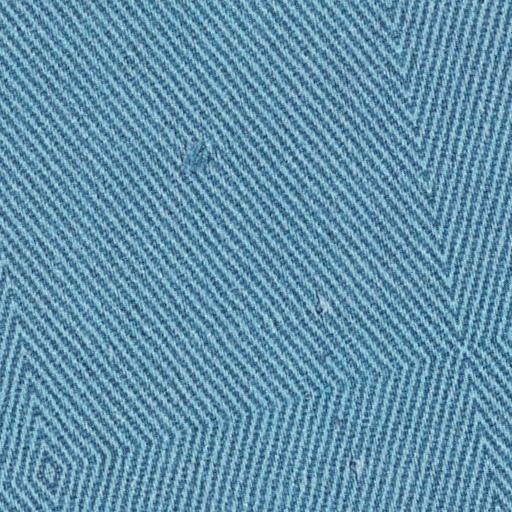knot: (162, 136, 224, 184)
